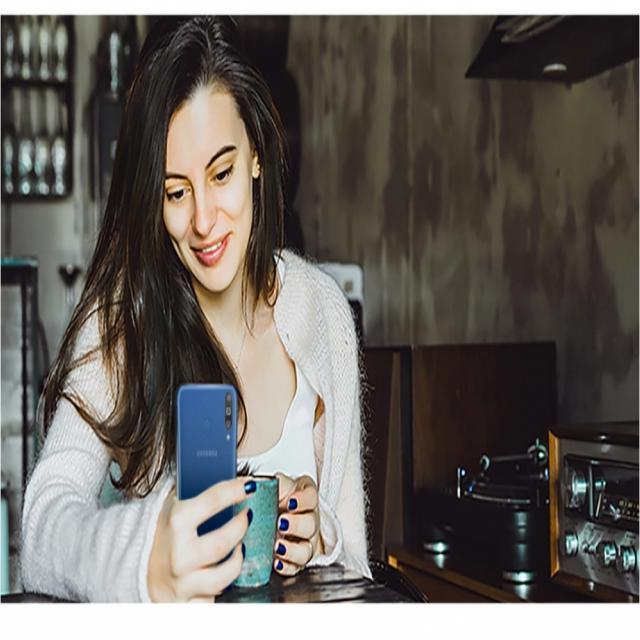mobile: (177, 384, 236, 581)
